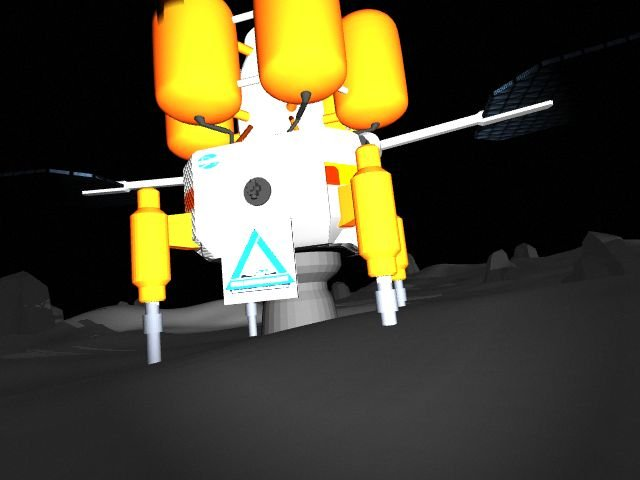basemarker: (225, 227, 295, 296)
